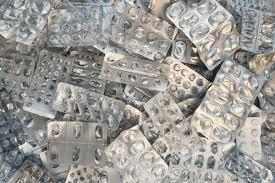pill_Strip: (192, 60, 263, 142), (23, 50, 105, 118), (166, 0, 238, 69), (106, 1, 176, 59), (105, 126, 167, 182), (53, 82, 124, 128), (23, 50, 71, 118), (166, 0, 230, 44), (47, 121, 106, 165), (101, 53, 168, 90), (0, 0, 50, 44), (197, 17, 239, 69), (48, 5, 101, 46), (152, 120, 198, 165), (165, 57, 209, 99), (0, 55, 35, 102), (144, 92, 184, 133), (0, 90, 26, 151), (190, 138, 226, 182), (68, 52, 105, 93), (225, 150, 272, 182), (240, 8, 274, 52), (108, 104, 146, 141), (47, 121, 106, 144), (0, 90, 31, 131), (236, 117, 262, 160), (65, 165, 120, 182), (171, 32, 200, 64), (8, 160, 43, 182), (0, 149, 24, 181), (0, 100, 13, 151), (227, 0, 274, 14), (124, 0, 160, 17), (140, 117, 162, 144), (143, 0, 170, 21), (248, 53, 274, 74), (124, 85, 154, 101), (261, 71, 275, 105), (177, 98, 201, 116), (67, 0, 115, 7), (104, 81, 123, 98)
